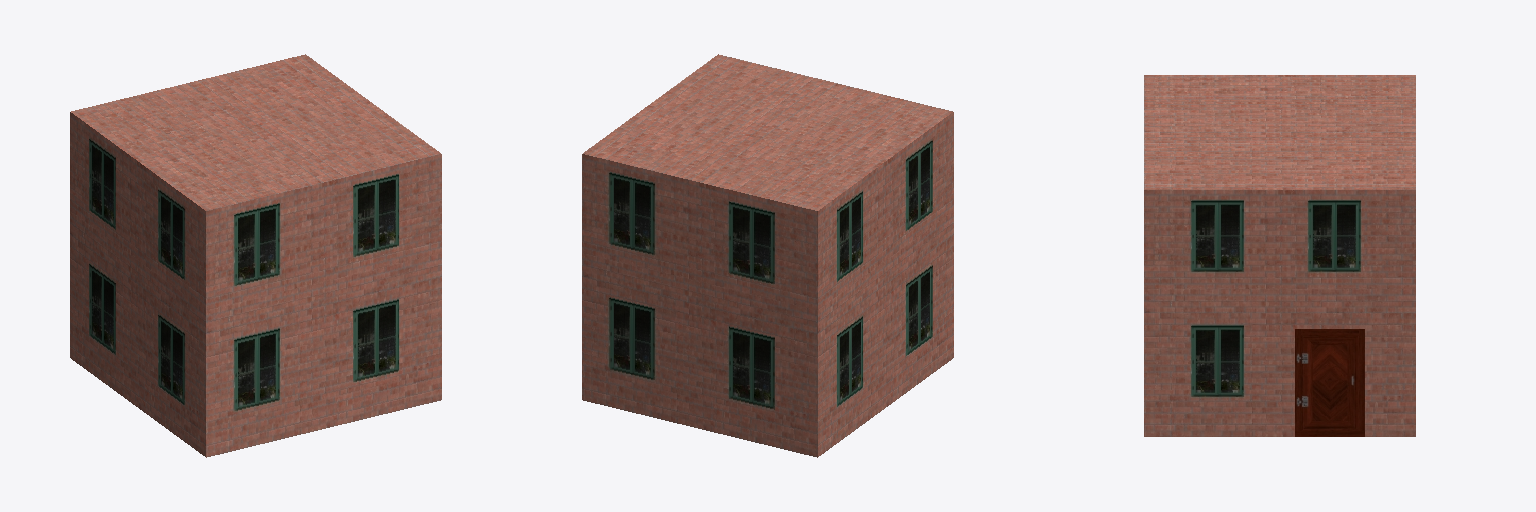
3 renders of one model, left to right at view 1: azimuth 30°, elevation 25°; view 2: azimuth 150°, elevation 25°; view 3: azimuth 270°, elevation 25°, orthographic.
Parts seen in each view (by area): view 1: Cube; view 2: Cube; view 3: Cube.
Boxes of the visible parts, <box> form: Cube: <box>70,54,441,457</box>; Cube: <box>582,54,953,457</box>; Cube: <box>1144,75,1415,436</box>.
Size of the model in its own units: 2 by 2 by 2.
Materials: 1 (1 with a texture image).